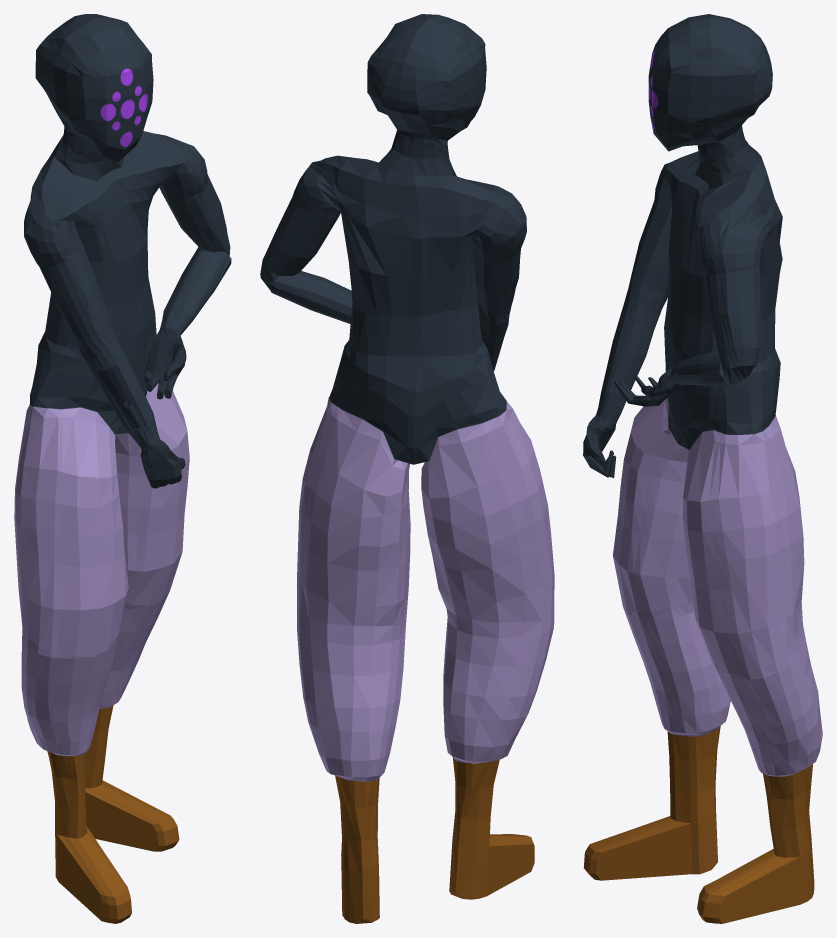
The model's file is Oracle_WB_000027.obj.
The picture shows the model from 3 angles, left to right: view 1: azimuth 30°, elevation 25°; view 2: azimuth 150°, elevation 25°; view 3: azimuth 270°, elevation 25°; orthographic projection. The views are drawn at different scales.
Visible parts, largest first — view 1: Cube; view 2: Cube; view 3: Cube.
Part boxes in pixels (bbox=[...]): Cube: bbox=[14, 14, 231, 923]; Cube: bbox=[260, 14, 554, 923]; Cube: bbox=[583, 14, 822, 923].
Bounding box in the file's own units: 1.16 × 3.94 × 0.9788.
